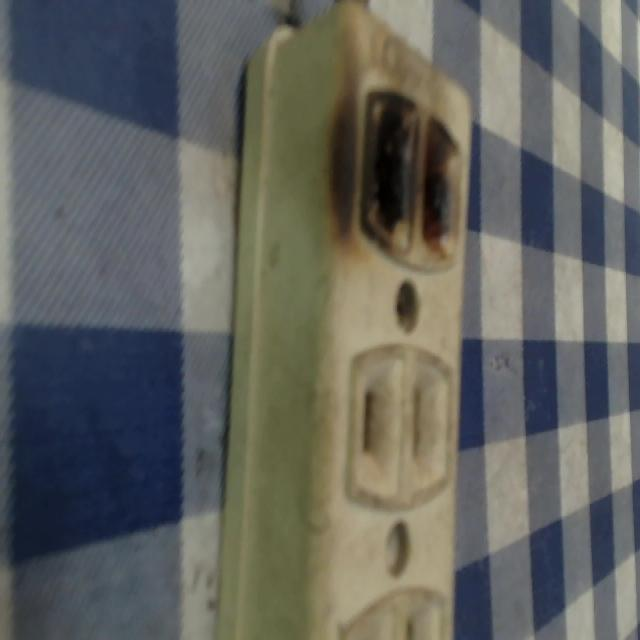-: (333, 62, 477, 262)
